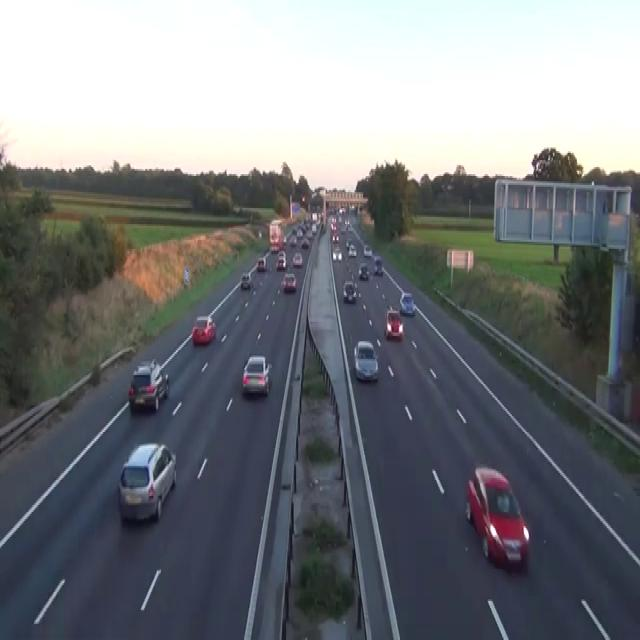Car: (465, 466, 529, 569), (117, 441, 176, 523), (128, 359, 169, 413), (241, 354, 272, 396), (353, 340, 378, 380), (191, 315, 215, 345), (385, 310, 403, 340), (399, 292, 415, 314), (342, 279, 356, 302), (282, 272, 296, 292), (275, 251, 286, 270), (240, 272, 251, 288), (358, 263, 369, 279), (373, 256, 382, 274), (292, 250, 302, 266), (332, 246, 342, 262), (257, 256, 266, 270), (363, 244, 372, 256), (348, 244, 356, 256), (270, 242, 279, 252), (301, 238, 309, 249), (289, 235, 297, 245), (278, 249, 286, 259), (332, 233, 339, 243), (339, 206, 346, 215), (446, 183, 455, 190), (344, 218, 350, 228), (296, 228, 303, 236), (311, 224, 316, 235), (330, 222, 336, 231), (340, 224, 346, 233), (305, 230, 311, 238), (345, 240, 350, 249), (347, 224, 353, 231), (291, 226, 296, 234), (258, 230, 262, 238), (301, 195, 305, 202), (283, 234, 286, 243)
Truck: (269, 218, 283, 252)
